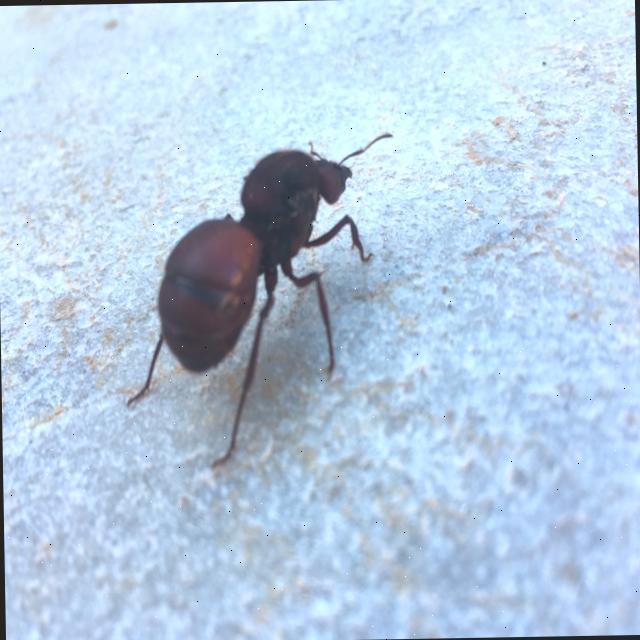Alive-Female-Dealate: (120, 130, 399, 472)
